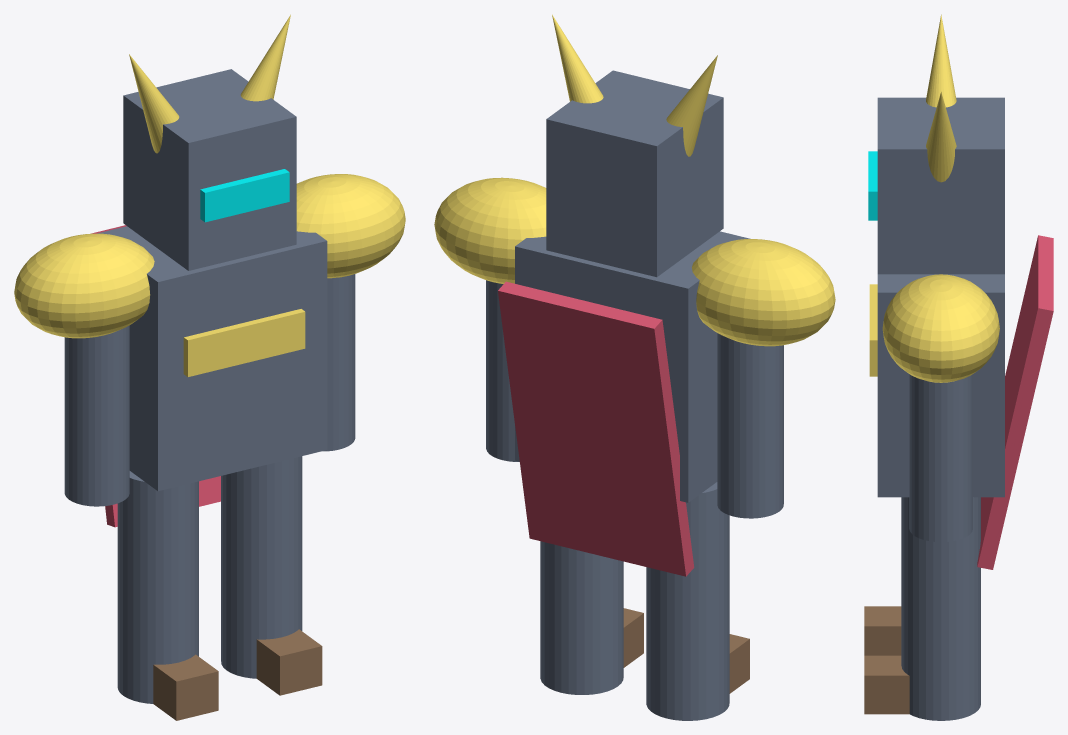
The model's file is player.glb.
3 views of the same model, side by side, from view 1: azimuth 30°, elevation 25°; view 2: azimuth 150°, elevation 25°; view 3: azimuth 270°, elevation 25° (orthographic). The views are drawn at different scales.
Visible parts, largest first — view 1: Cube, Cube.002, Cylinder.002, Cylinder.003, Sphere, Cylinder, Sphere.001, Cube.001, Cylinder.001, Cube.006, Cube.005, Cube.003 (+3 smaller); view 2: Cube.004, Cube.002, Cube, Cylinder.002, Sphere, Cylinder.003, Cylinder, Sphere.001, Cylinder.001, Cone, Cone.001, Cube.005 (+1 smaller); view 3: Cube.002, Cylinder.003, Cube, Cylinder.001, Sphere.001, Cube.004, Cube.006, Cube.005, Cone.001, Cone, Cube.001, Cube.003.
Boxes of the visible parts, x1,y1,x2,y2 form: Cube: (97,226,327,491); Cube.002: (123,69,296,270); Cylinder.002: (117,471,198,703); Cylinder.003: (221,456,302,678); Sphere: (14,233,154,338); Cylinder: (64,325,129,506); Sphere.001: (296,174,405,278); Cube.001: (183,309,305,376); Cylinder.001: (323,274,355,451); Cube.006: (256,629,322,695); Cube.005: (153,654,218,720); Cube.003: (200,169,289,222); Cube.004: (498,281,694,576); Cube.002: (546,70,723,277); Cube: (515,231,750,502); Cylinder.002: (646,482,729,720); Sphere: (691,239,835,346); Cylinder.003: (540,541,623,694); Cylinder: (717,333,783,518); Sphere.001: (434,177,546,283); Cylinder.001: (486,280,519,461); Cone: (666,55,717,156); Cone.001: (552,14,603,103); Cube.005: (729,634,749,693); Cube.002: (877,97,1004,274); Cylinder.003: (901,497,980,720); Cube: (877,274,1004,497); Cylinder.001: (909,374,972,542); Sphere.001: (882,274,999,382); Cube.004: (977,235,1053,569); Cube.006: (864,655,909,714); Cube.005: (864,606,901,655); Cone.001: (926,92,956,182); Cone: (926,14,956,107); Cube.001: (869,284,877,376); Cube.003: (868,151,877,220).
Size of the model in its own units: 1.61 by 2.6 by 0.7137.
